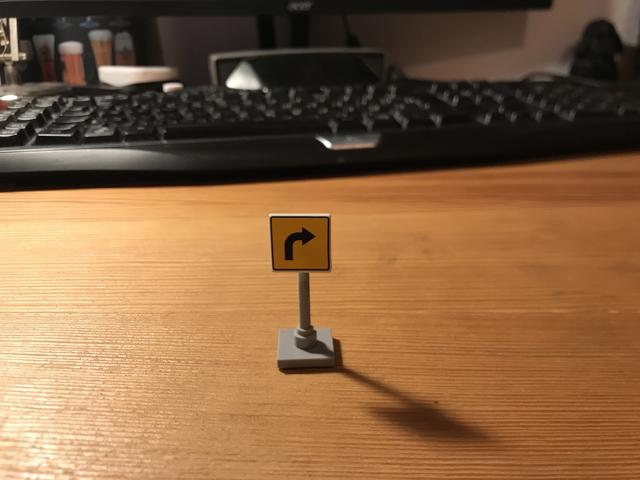fahrtrichtung rechts: (267, 212, 331, 275)
